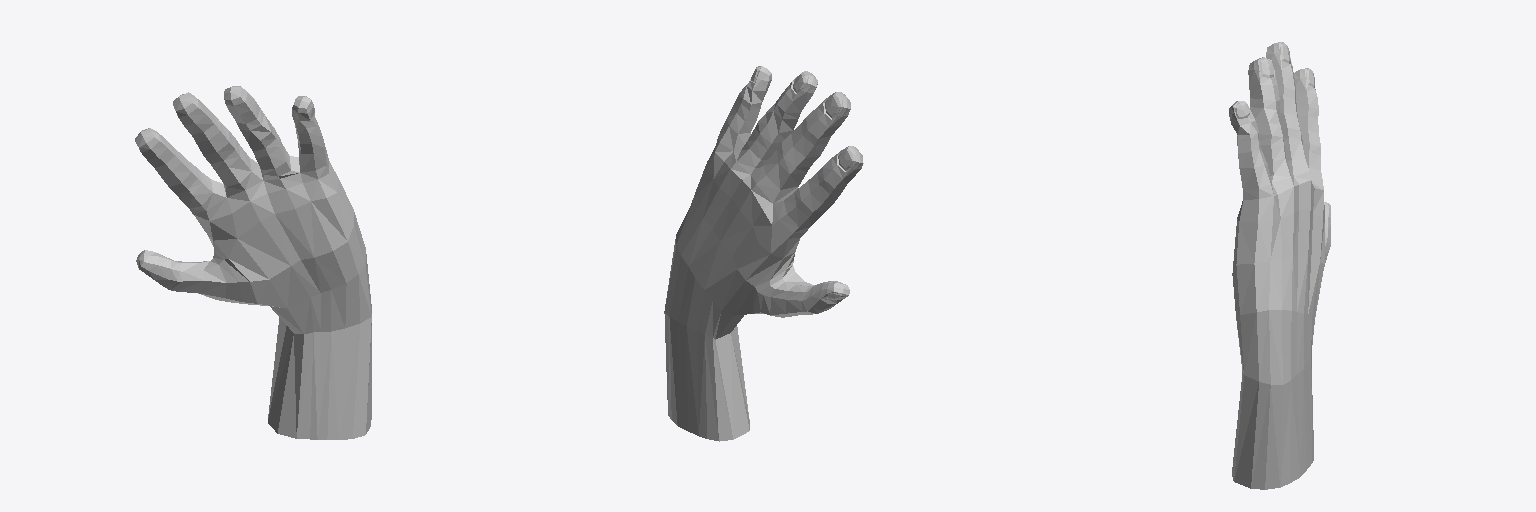
Rendered from handAnimated4_000155.obj.
The picture shows the model from 3 angles: view 1: azimuth 30°, elevation 25°; view 2: azimuth 150°, elevation 25°; view 3: azimuth 270°, elevation 25°; orthographic projection.
Parts seen in each view (by area): view 1: Cube.000_Cube.017_Detached_Detached; view 2: Cube.000_Cube.017_Detached_Detached; view 3: Cube.000_Cube.017_Detached_Detached.
Part boxes in pixels (left/top/right/bottom): Cube.000_Cube.017_Detached_Detached: left=135, top=86, right=371, bottom=439; Cube.000_Cube.017_Detached_Detached: left=664, top=66, right=863, bottom=441; Cube.000_Cube.017_Detached_Detached: left=1229, top=42, right=1330, bottom=489.
Size of the model in its own units: 0.7401 by 1.22 by 0.3096.